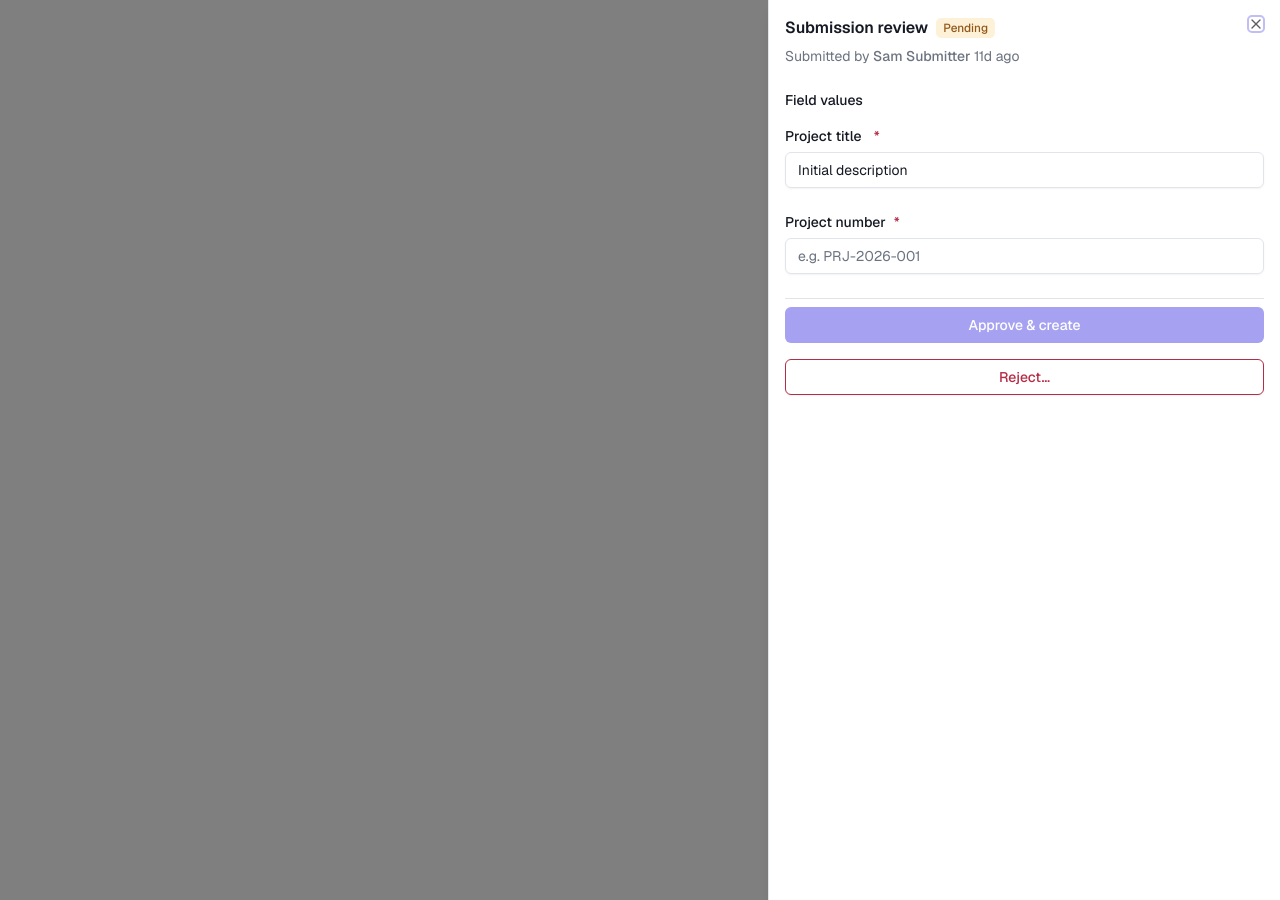
Test: ReviewSheet — intake target › requires a valid project number and offers Approve & create (no project picker)
Expected: the button with aria-label "approve & push" reads "Approve & create", [785, 307, 1264, 343]
Expected: the button with aria-label "approve & push" is disabled, [785, 307, 1264, 343]
// A valid number enables approval.
Type "PRJ-2026-001" into the field labelled "Project number" at x=1024, y=256, box [785, 238, 1264, 274]
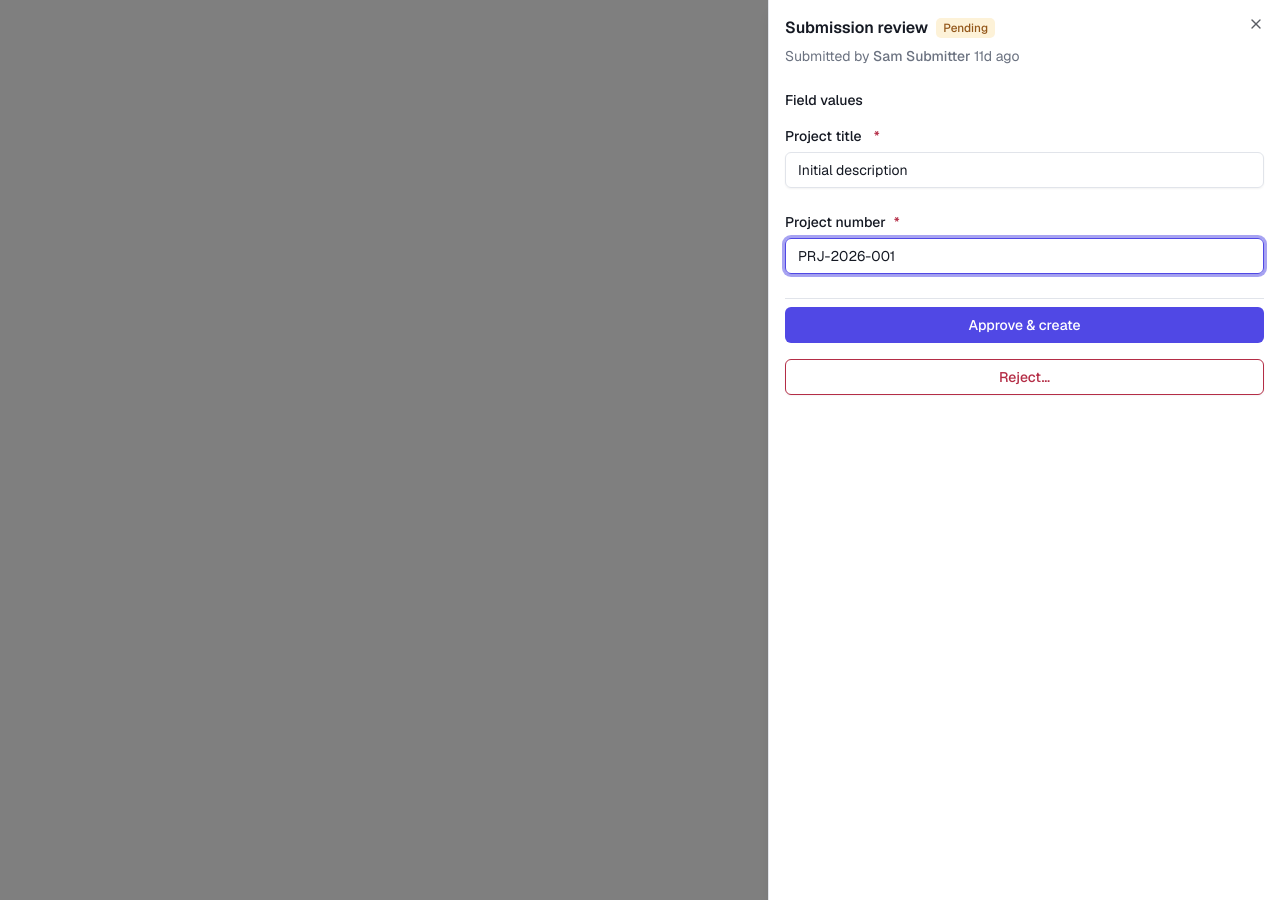
Now the button with aria-label "approve & push" is enabled, box [785, 307, 1264, 343]
